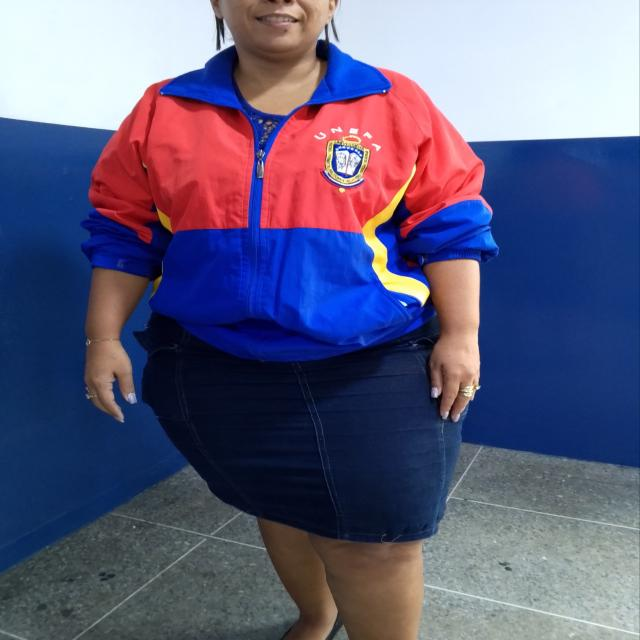chaqueta_unefa: (77, 38, 501, 364)
